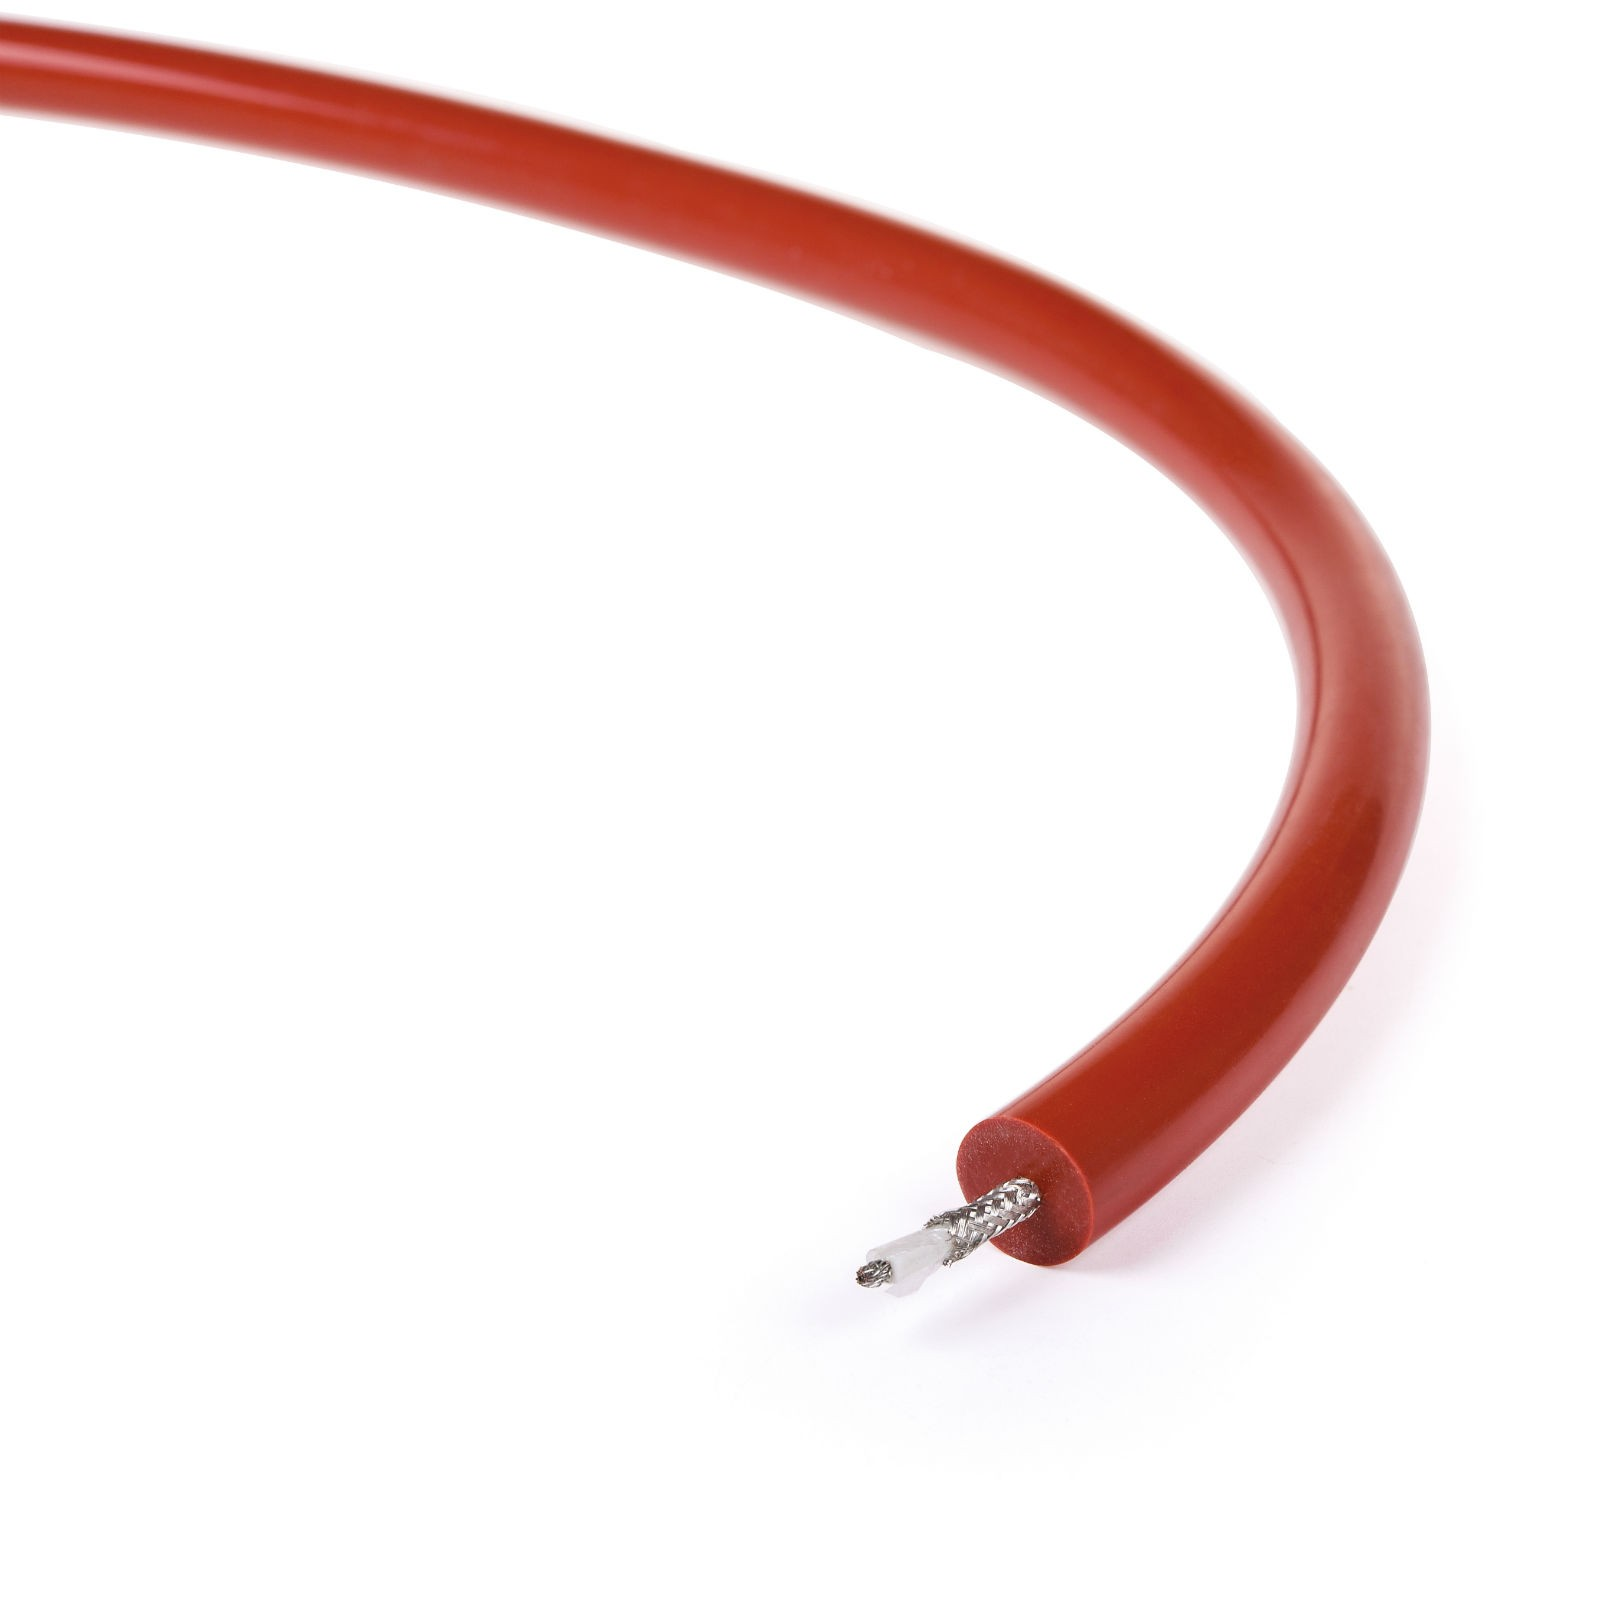Nonrec_Tangler: (12, 1, 1543, 1376)
